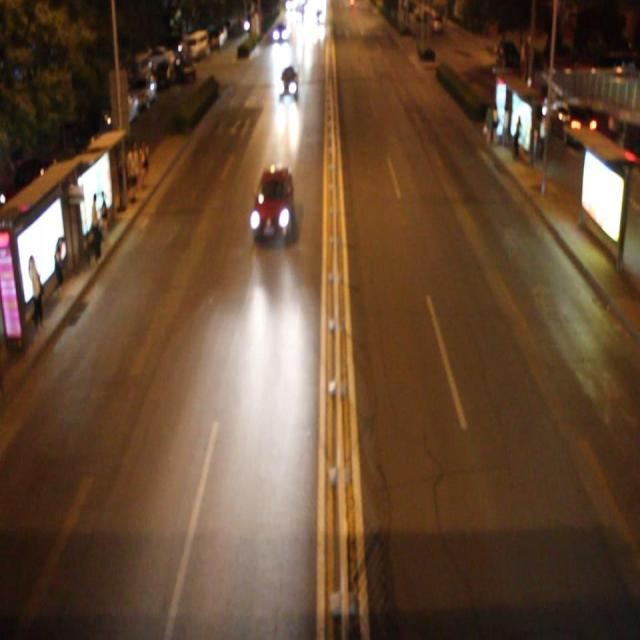car: (251, 164, 295, 237), (276, 61, 298, 98)
